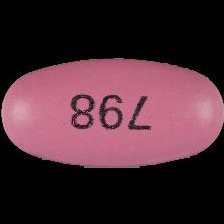61919-648: (0, 0, 224, 224)
